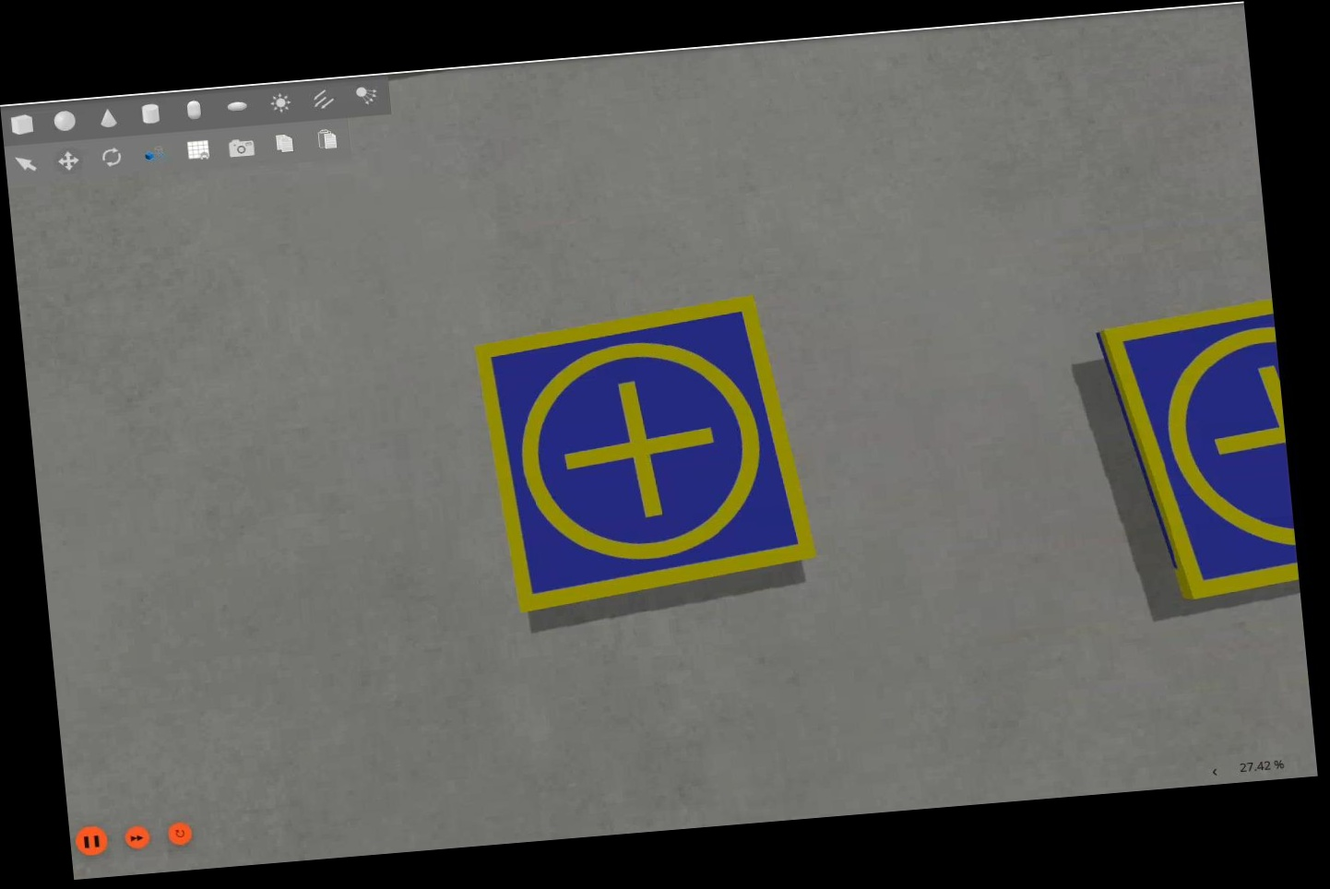small_base: (470, 295, 825, 620), (1097, 302, 1302, 604)
